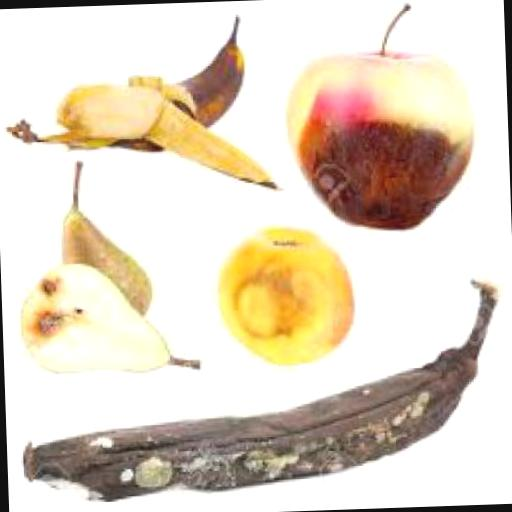biodegradable: (14, 276, 502, 502), (277, 0, 474, 230), (0, 12, 244, 154), (16, 258, 197, 376), (214, 222, 354, 368), (56, 154, 150, 316), (138, 97, 275, 190)
